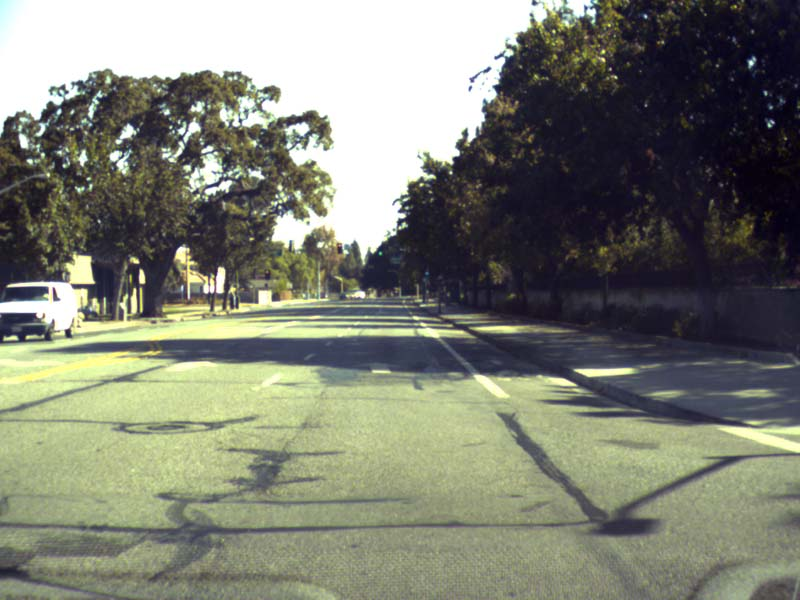Green: (376, 244, 383, 257), (423, 267, 429, 276)
Red: (337, 242, 342, 254), (264, 269, 270, 279)
